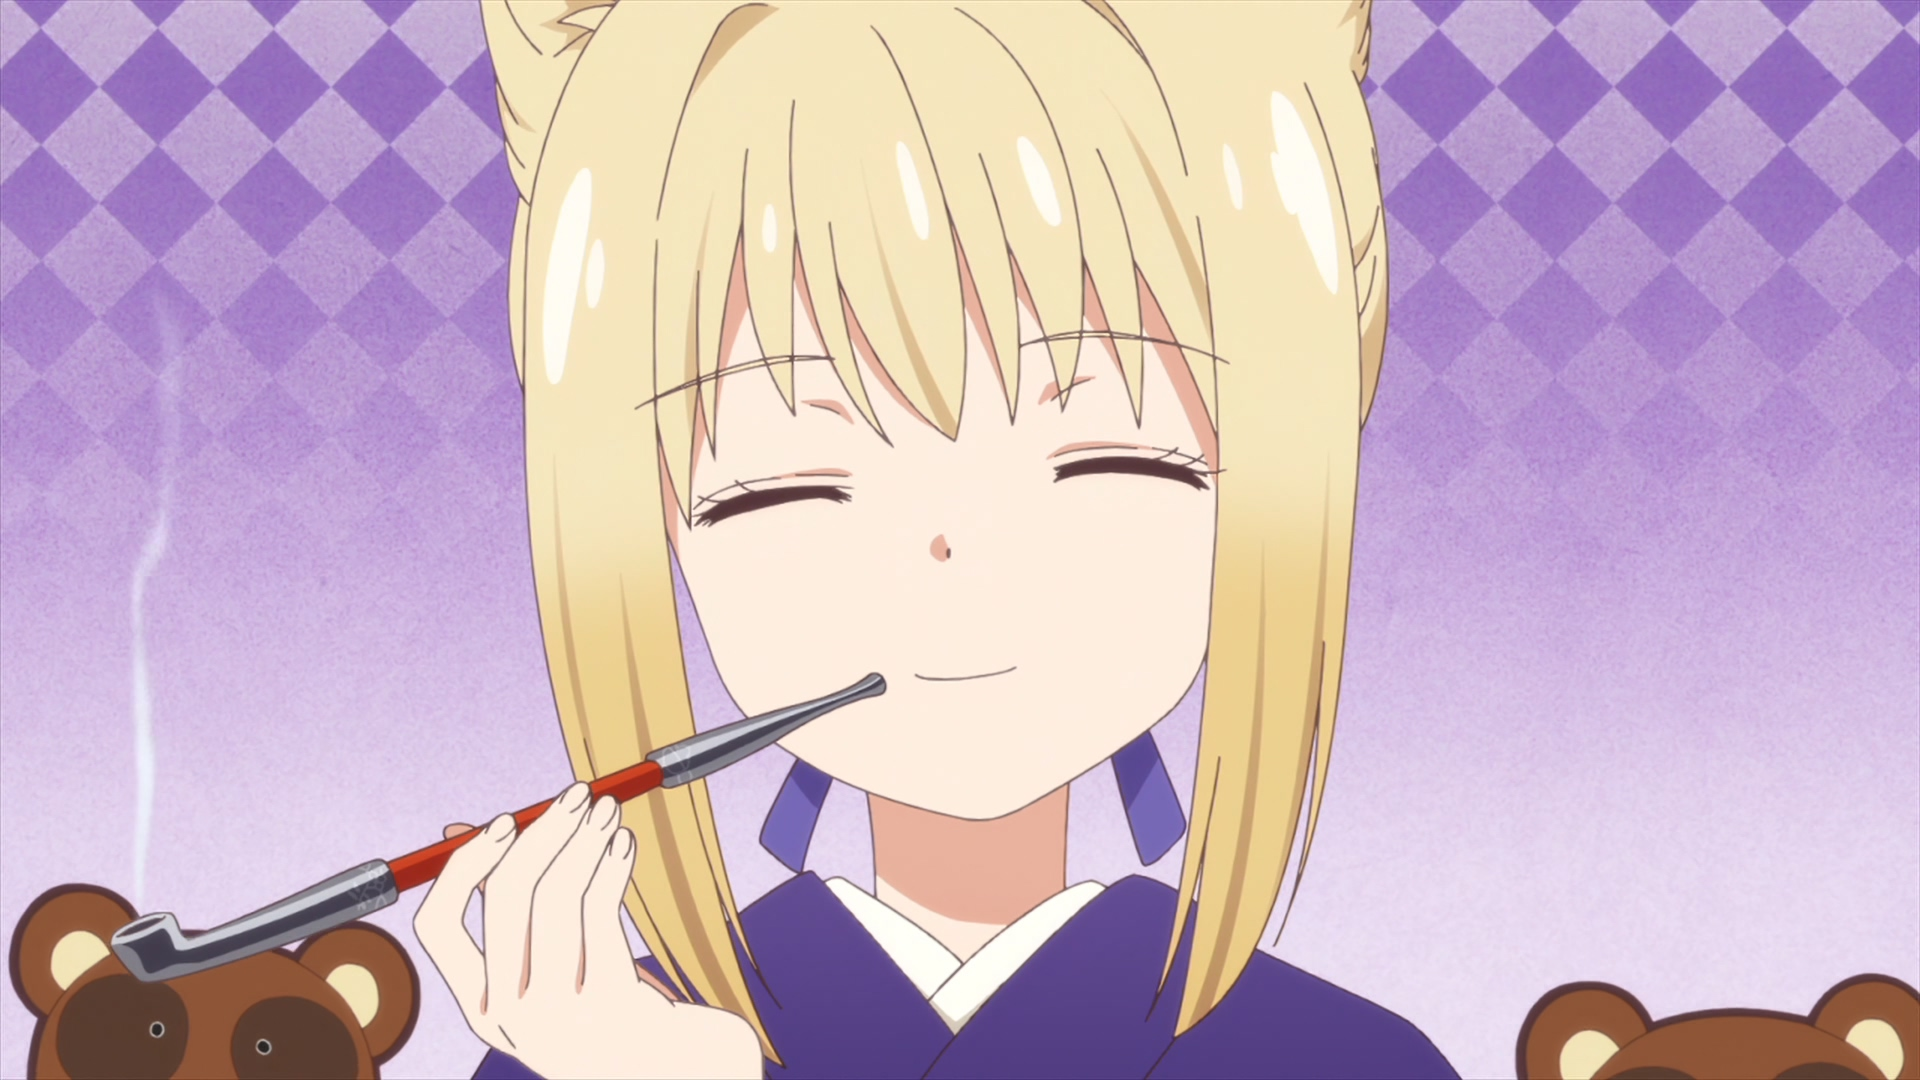桐: (411, 1, 1458, 1080)
